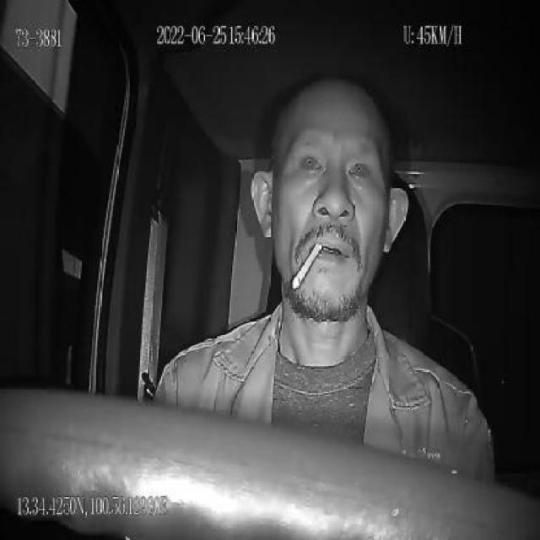smoking: (292, 243, 321, 289)
